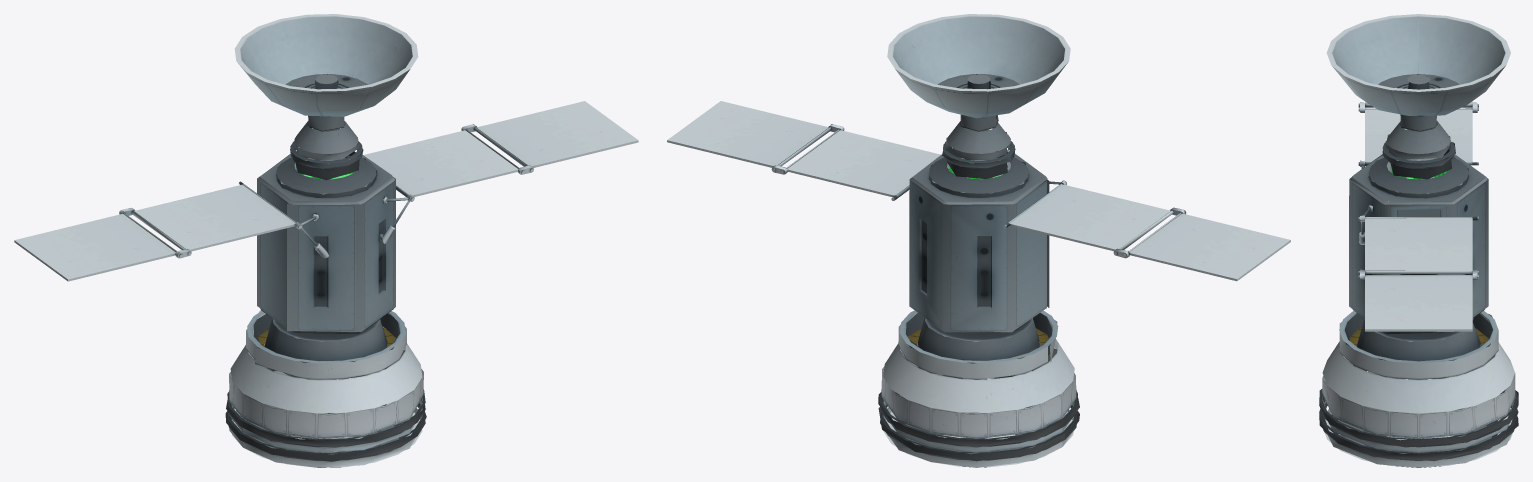
Rendered from Satellite01.fbx.
3 views of the same model, side by side, from view 1: azimuth 30°, elevation 25°; view 2: azimuth 150°, elevation 25°; view 3: azimuth 270°, elevation 25° (orthographic).
Visible parts, largest first — view 1: Satellite_Base.001; view 2: Satellite_Base.001; view 3: Satellite_Base.001.
Part boxes in pixels (box(x1,y1,x2,y2)): Satellite_Base.001: box(14, 14, 638, 467); Satellite_Base.001: box(667, 14, 1290, 467); Satellite_Base.001: box(1319, 14, 1518, 467).
Size of the model in its own units: 1272 by 819 by 386.
